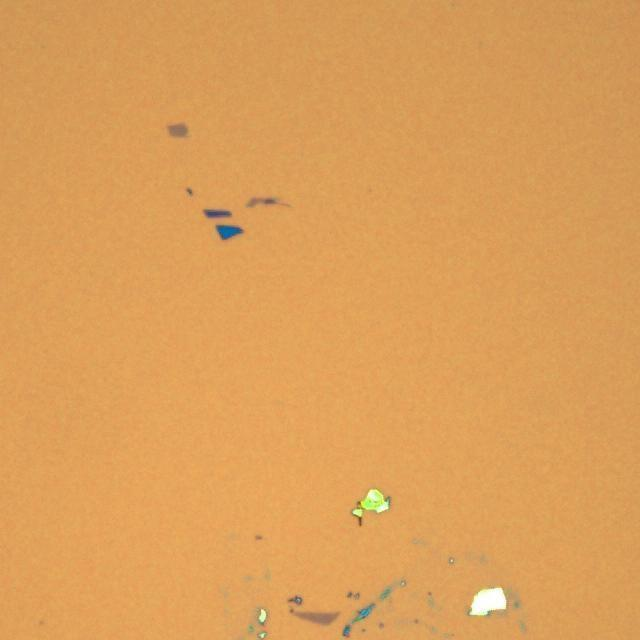monolayer-eWW4: (294, 608, 340, 626), (168, 120, 188, 138), (247, 195, 264, 209)
